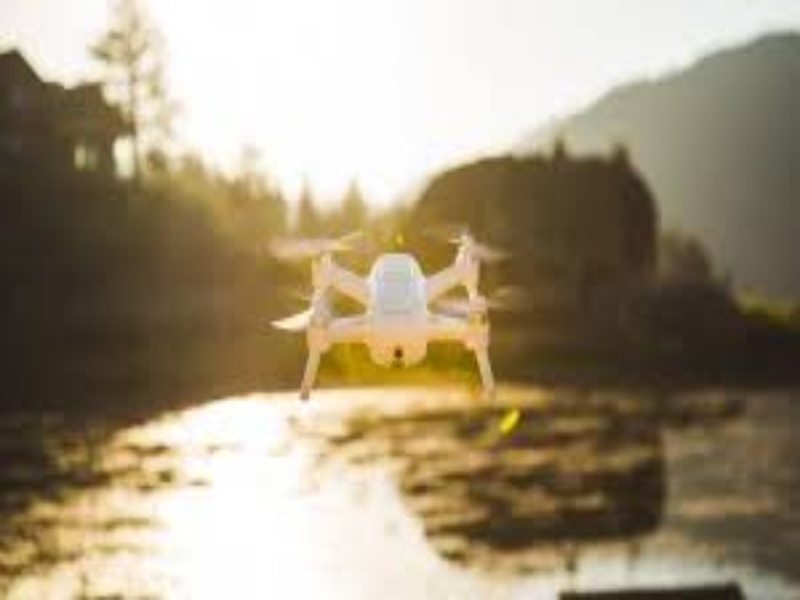drone: (267, 218, 513, 396)
